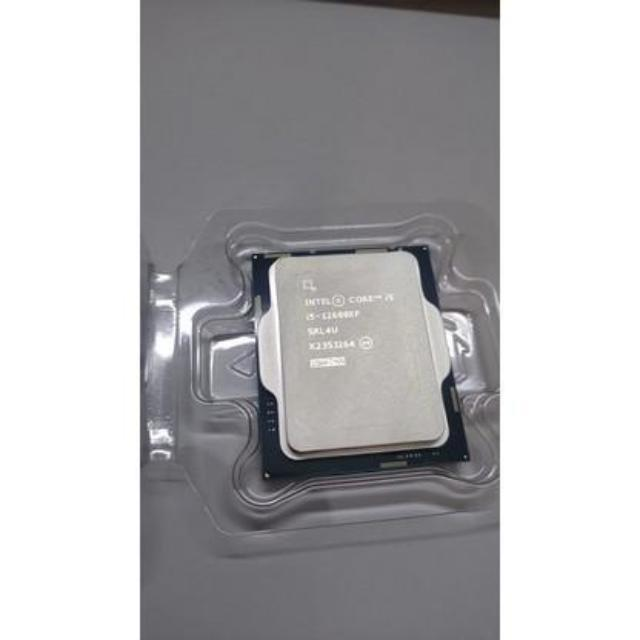CPU: (256, 249, 452, 469)
